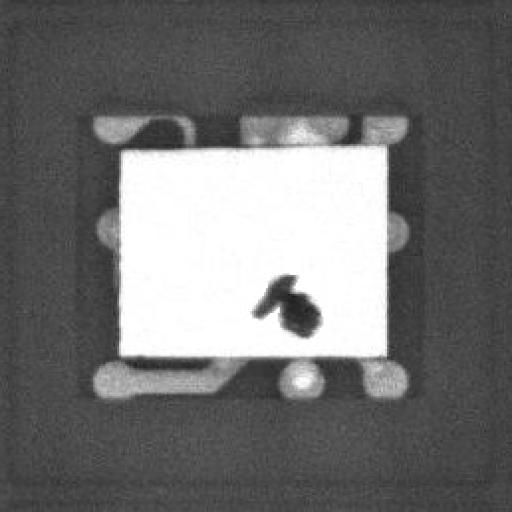DIE_INK: (237, 284, 305, 353)
